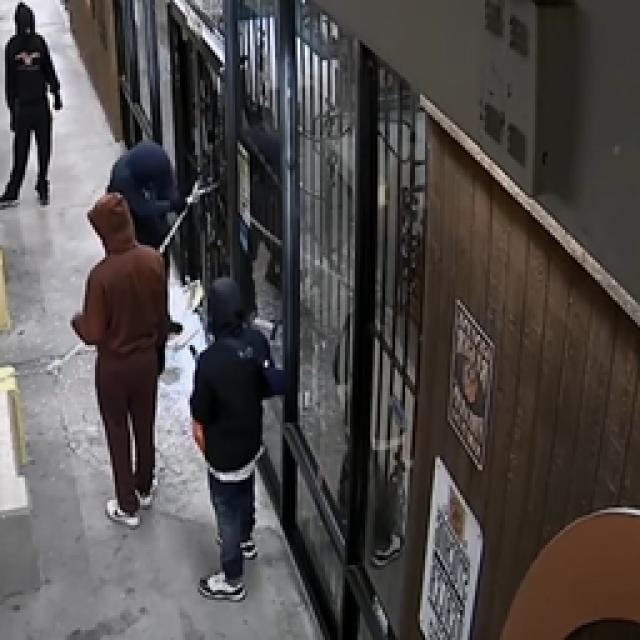person: (70, 190, 162, 522), (190, 275, 282, 595), (108, 140, 182, 248), (168, 320, 180, 330)
